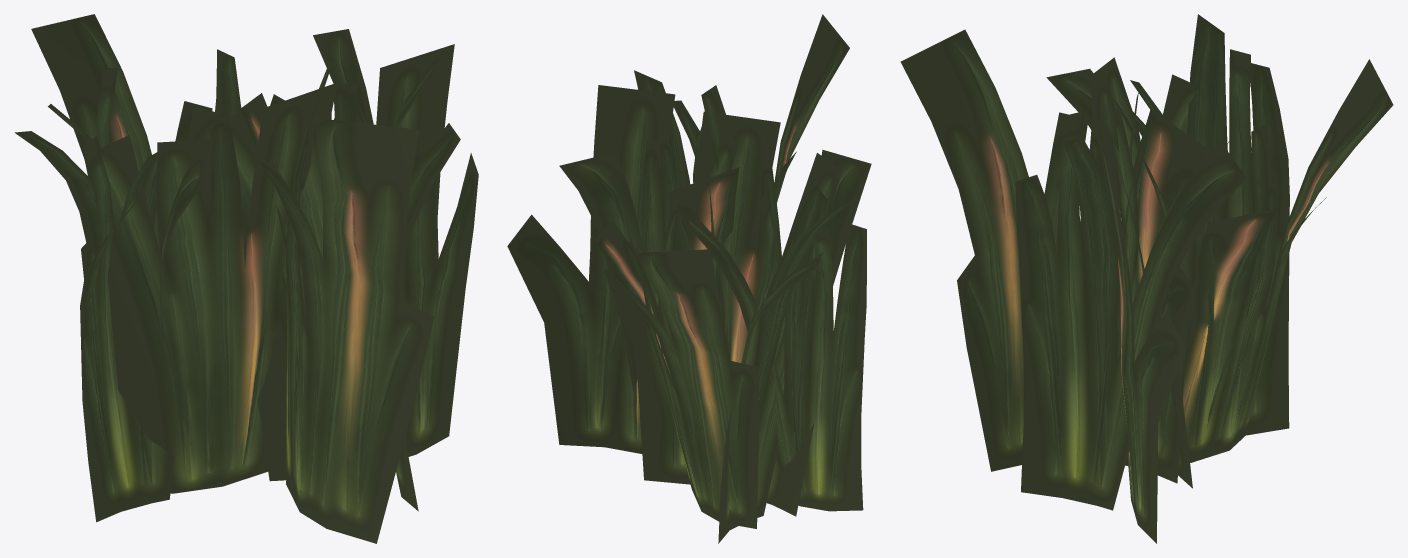
Rendered from Grass1_LOD0.fbx.
The picture shows the model from 3 angles, left to right: view 1: azimuth 30°, elevation 25°; view 2: azimuth 150°, elevation 25°; view 3: azimuth 270°, elevation 25°; orthographic projection. The views are drawn at different scales.
Parts seen in each view (by area): view 1: polySurface13; view 2: polySurface13; view 3: polySurface13.
Part boxes in pixels (box(x1,y1,x2,y2)): polySurface13: box(14, 14, 478, 543); polySurface13: box(507, 14, 871, 543); polySurface13: box(900, 14, 1393, 543).
Bounding box in the file's own units: 120 × 125 × 134.
